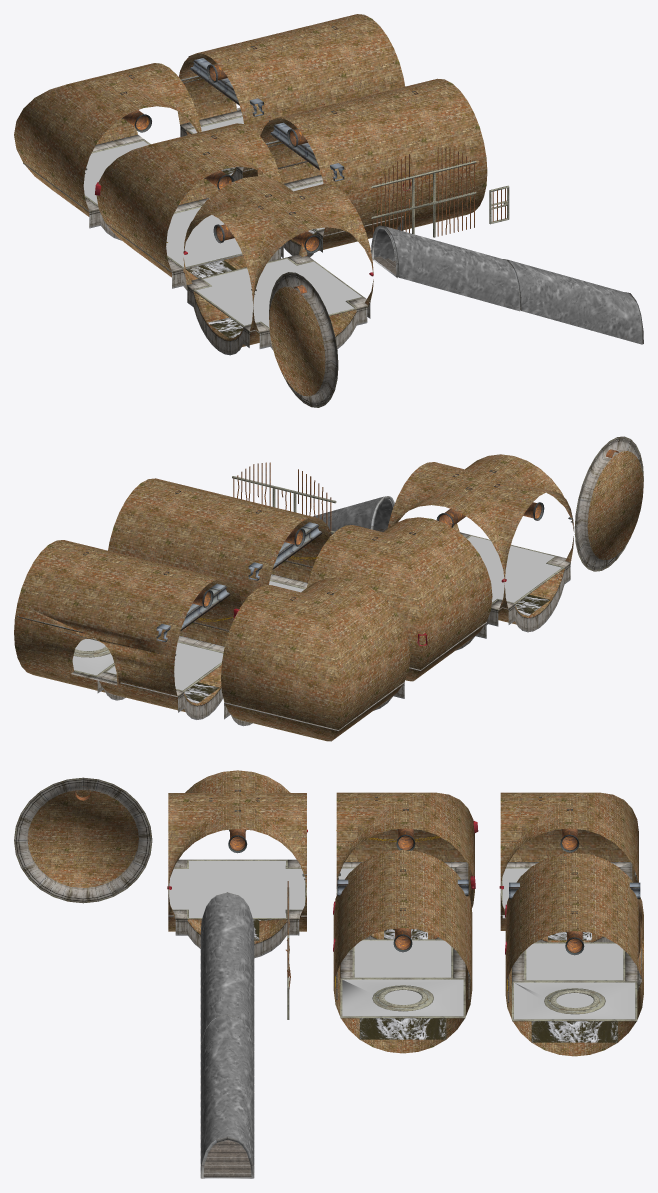
File: Sewer_sketchfab.obj
The picture shows the model from 3 angles, top to bottom: view 1: azimuth 30°, elevation 25°; view 2: azimuth 150°, elevation 25°; view 3: azimuth 270°, elevation 25°; orthographic projection.
Visible parts, largest first — view 1: recto_origina_BUENO_noborrar, interseccion002, modulo_escalera, Codo2, Codo1, escalera, tapa, marco; view 2: modulo_escalera, Codo1, recto_origina_BUENO_noborrar, Codo2, interseccion002, tapa, escalera, marco; view 3: recto_origina_BUENO_noborrar, modulo_escalera, interseccion002, escalera, tapa, Codo1, Codo2.
Part boxes in pixels (<box>): recto_origina_BUENO_noborrar: <box>257,78,487,256</box>; interseccion002: <box>183,176,373,355</box>; modulo_escalera: <box>177,14,405,181</box>; Codo2: <box>95,123,283,290</box>; Codo1: <box>14,63,201,240</box>; escalera: <box>371,225,643,344</box>; tapa: <box>269,272,338,407</box>; marco: <box>371,147,476,237</box>; modulo_escalera: <box>14,540,241,719</box>; Codo1: <box>221,577,410,741</box>; recto_origina_BUENO_noborrar: <box>108,478,331,604</box>; Codo2: <box>306,517,492,681</box>; interseccion002: <box>387,454,574,632</box>; tapa: <box>574,436,643,571</box>; escalera: <box>313,496,394,534</box>; marco: <box>232,462,336,533</box>; recto_origina_BUENO_noborrar: <box>333,850,472,1053</box>; modulo_escalera: <box>505,853,643,1056</box>; interseccion002: <box>167,770,307,958</box>; escalera: <box>200,892,254,1178</box>; tapa: <box>14,777,152,903</box>; Codo1: <box>499,792,638,942</box>; Codo2: <box>336,792,478,939</box>.
Size of the model in its own units: 1009 by 497 by 1343.
